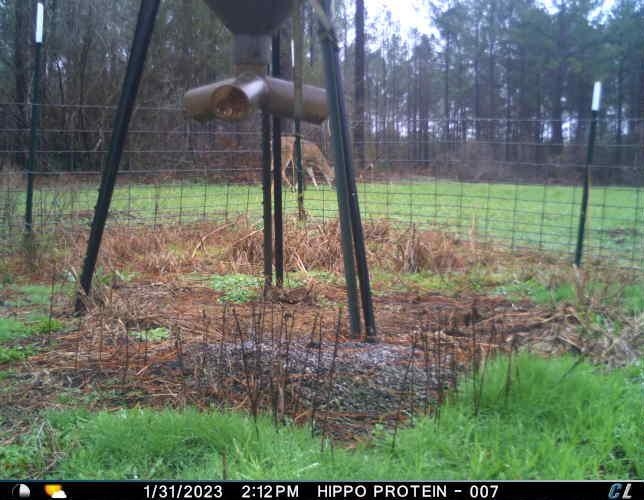Deer: (268, 133, 335, 194)
